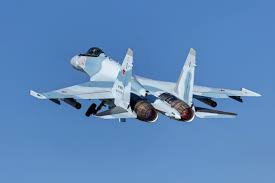maybay_muctieu: (27, 44, 272, 128)
